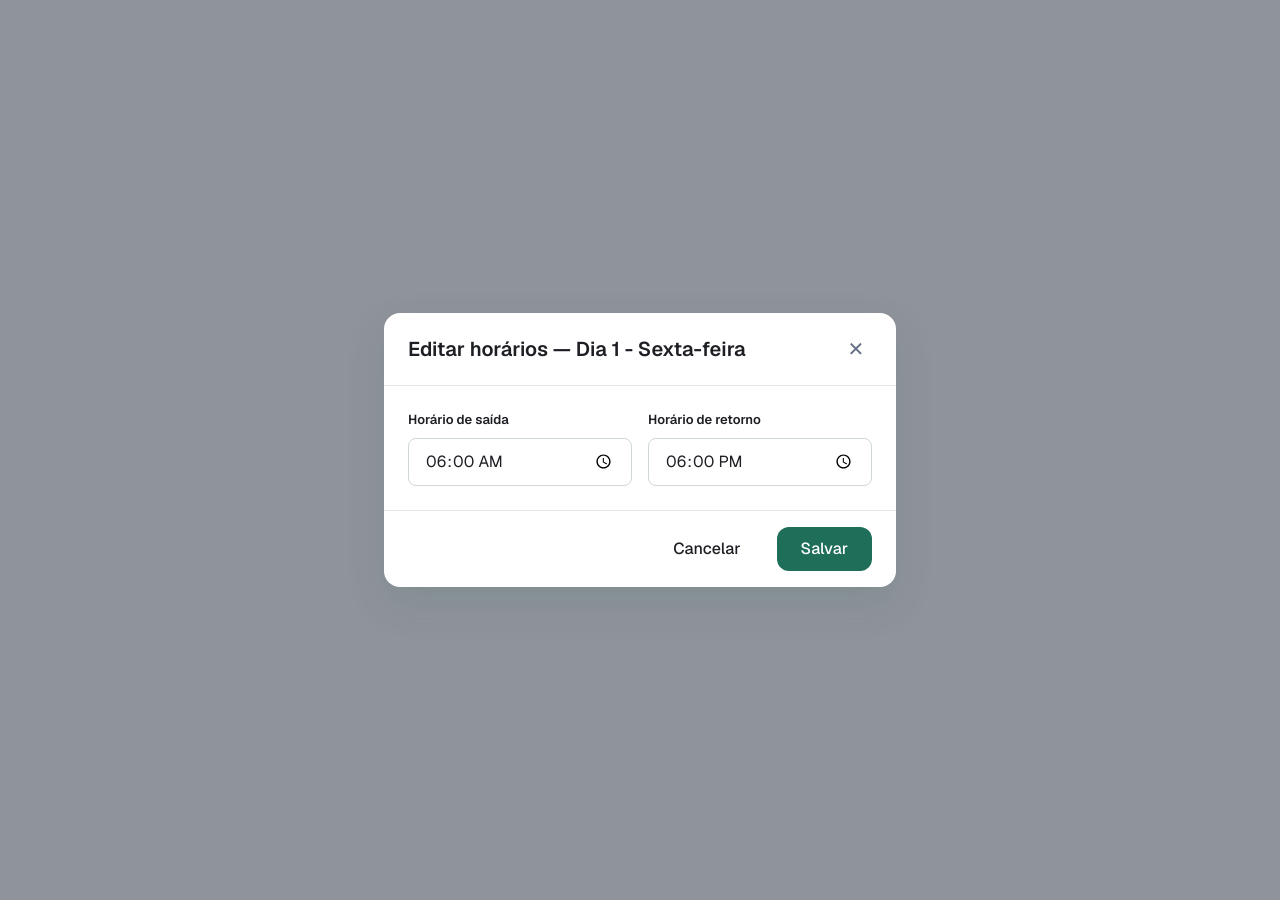
Scenario: UpdateEventDayFormModal › exibe erro do servidor
The image size is (1280, 900).
Click the button "Salvar" at [824, 549], box x1=777 y1=527 x2=872 y2=571
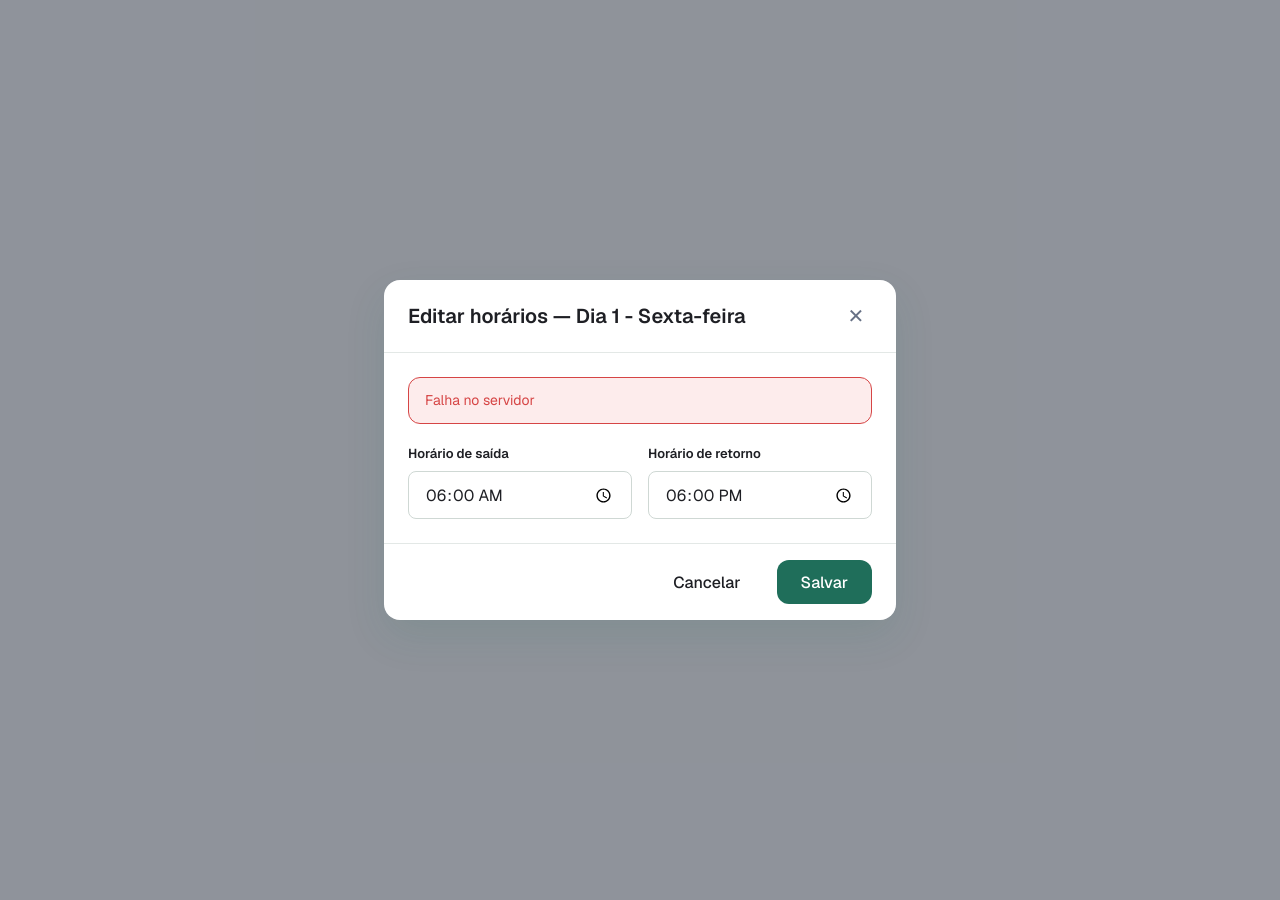
expect the message reads "Falha no servidor": met, box x1=425 y1=391 x2=535 y2=409
